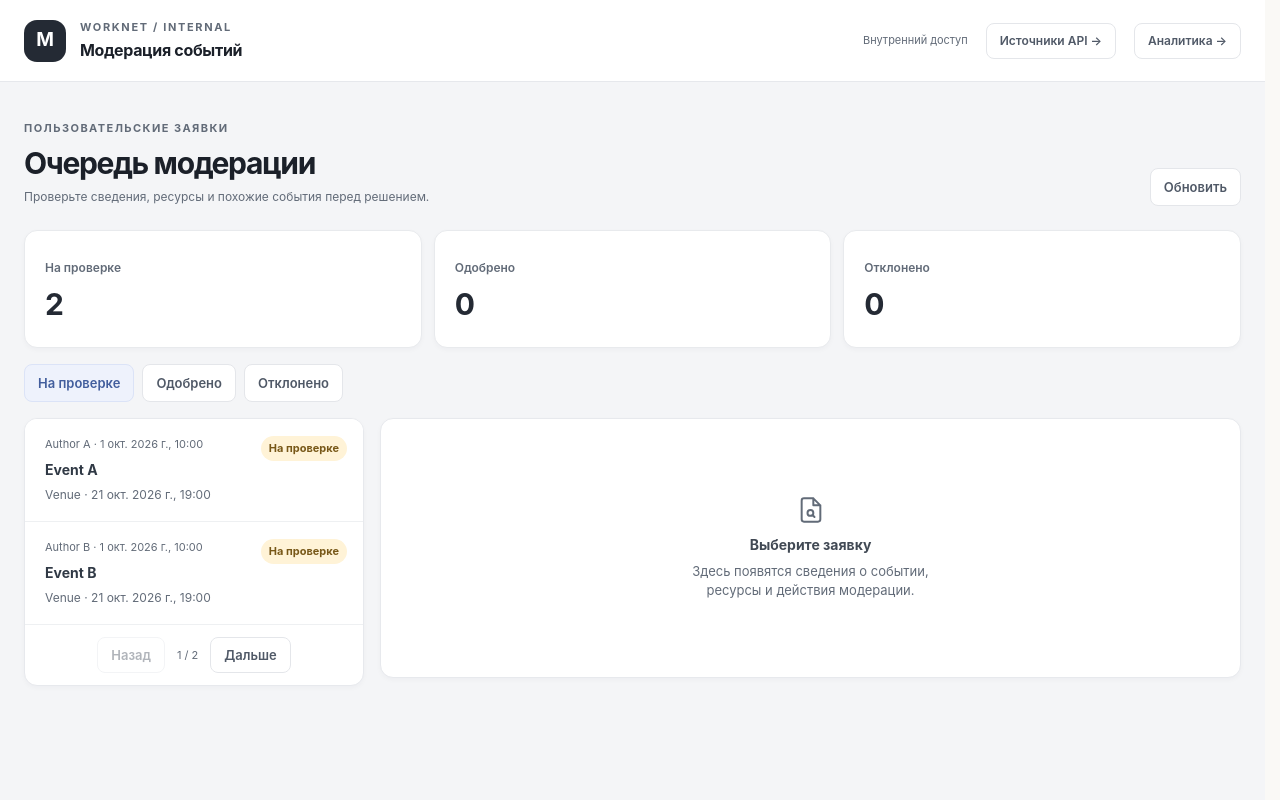
EventModerationPage async request handling › invalidates a pending detail when the filter changes
The width and height of the screenshot is (1280, 800).
Click the button "Event A" at (68, 444), box [25,419,363,522]
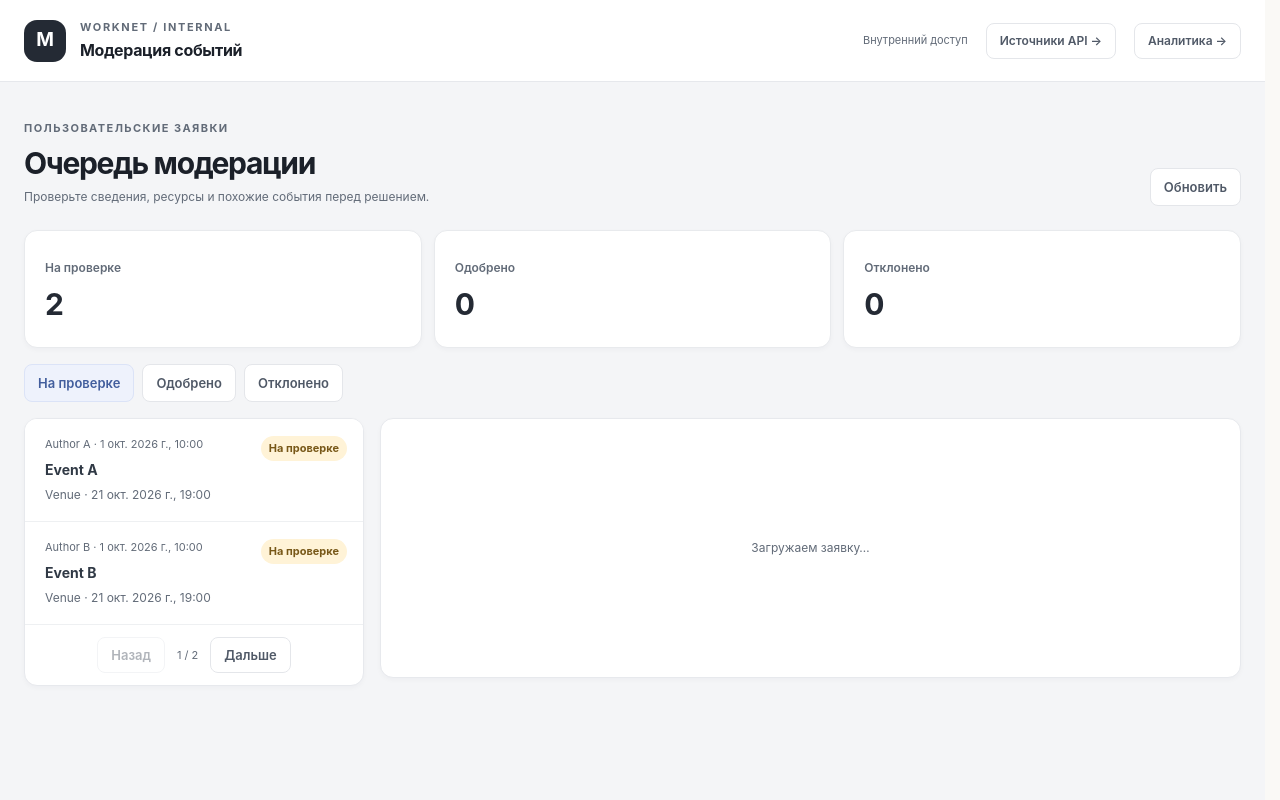
Click the button "Одобрено" at (189, 383), box [142,364,236,402]
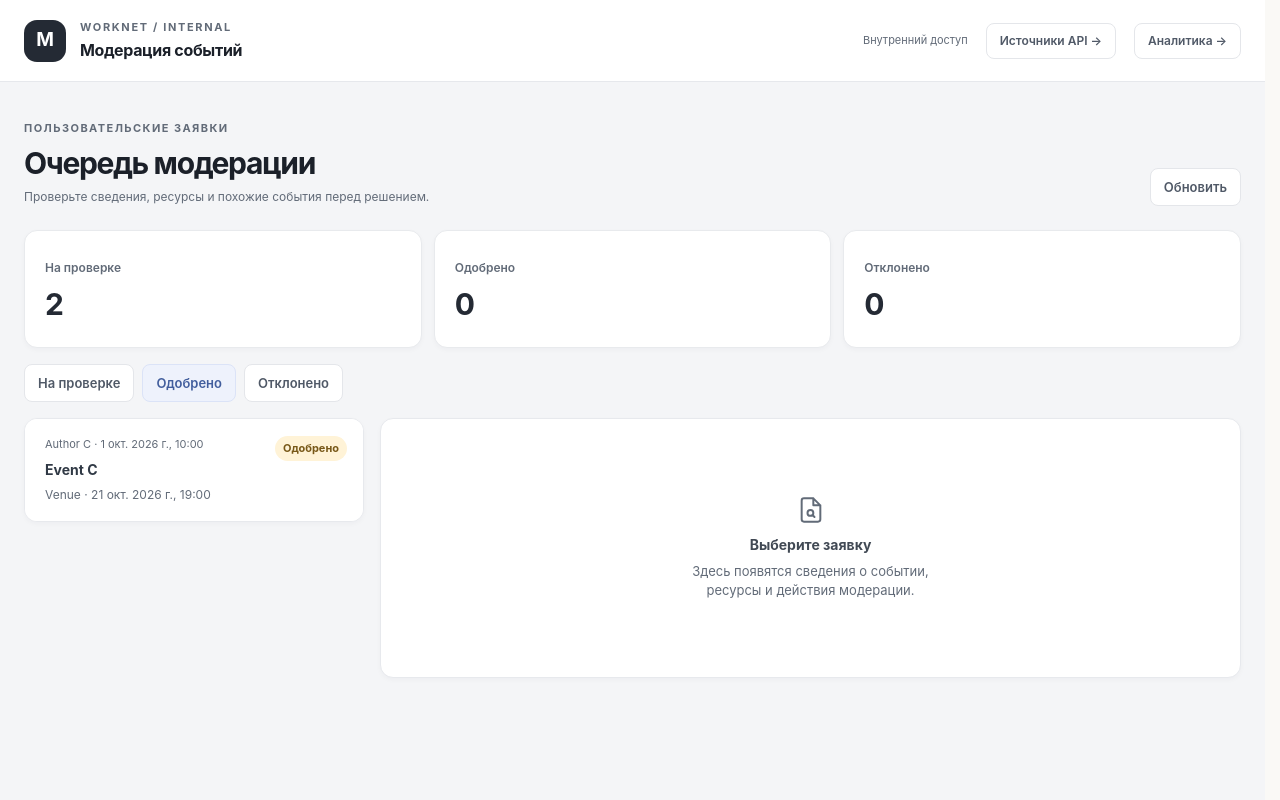
Check: the button "Event A" is gone
Check: the heading "Выберите заявку" is shown, box [750,536,871,554]
